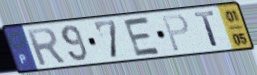7: (91, 19, 120, 61)
9: (60, 24, 90, 63)
E: (121, 15, 163, 58)
P: (160, 12, 191, 53)
R: (24, 26, 68, 68)
T: (192, 10, 221, 49)
